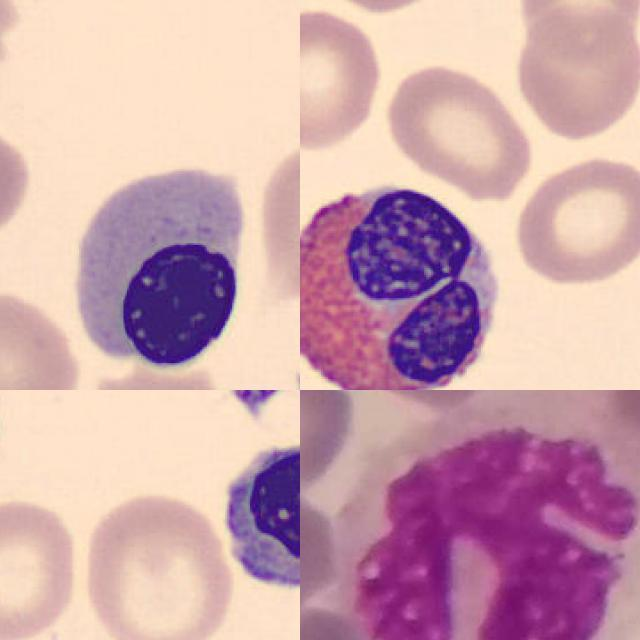Eosinophil: (300, 172, 509, 390)
Lymphocyte: (58, 153, 262, 377), (212, 430, 300, 607)
Monocyte: (346, 390, 640, 640)
Platelets: (224, 390, 280, 413)
RBC: (77, 485, 237, 640), (382, 58, 536, 199), (511, 3, 640, 144), (509, 151, 640, 287), (300, 5, 384, 153), (0, 492, 83, 640), (166, 554, 300, 640), (0, 285, 86, 390), (251, 130, 300, 303), (513, 0, 640, 61), (0, 91, 34, 243), (310, 0, 454, 16)
